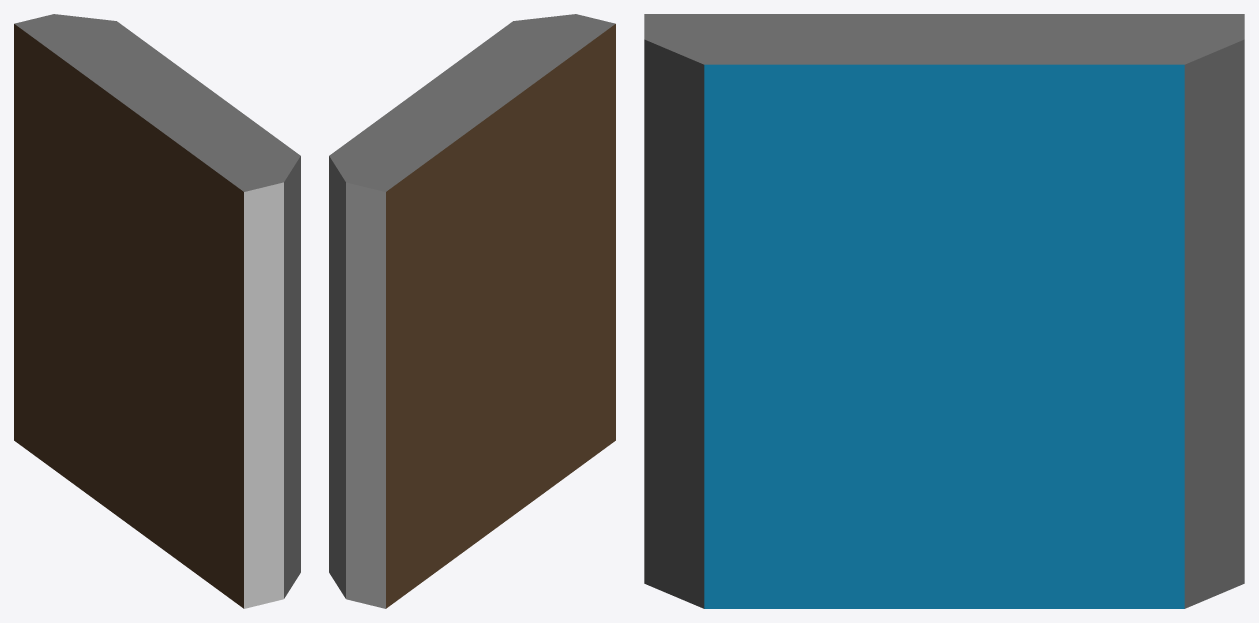
Rendered from wall_simple.fbx.
3 renders of one model, left to right at view 1: azimuth 30°, elevation 25°; view 2: azimuth 150°, elevation 25°; view 3: azimuth 270°, elevation 25°, orthographic. The views are drawn at different scales.
Visible parts, largest first — view 1: Wall; view 2: Wall; view 3: Wall.
Boxes of the visible parts, x1,y1,x2,y2 form: Wall: [14, 14, 300, 608]; Wall: [329, 14, 615, 608]; Wall: [644, 14, 1244, 608].
Size of the model in its own units: 200 by 200 by 40.
